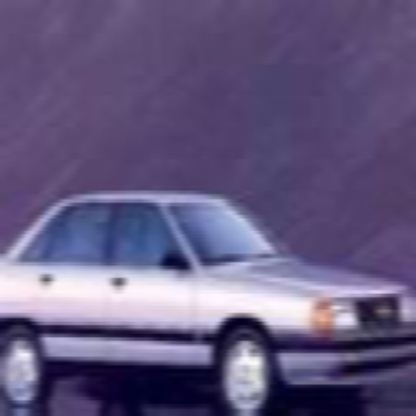Vehicle: (2, 186, 414, 412)
